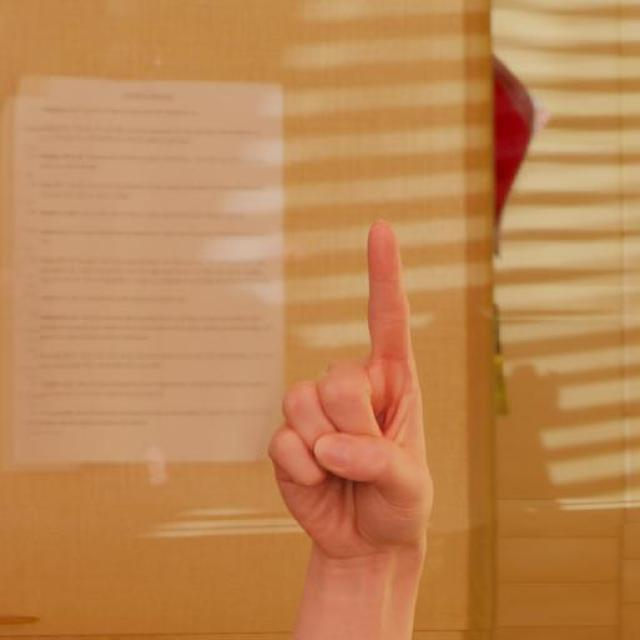Z: (264, 216, 436, 565)
